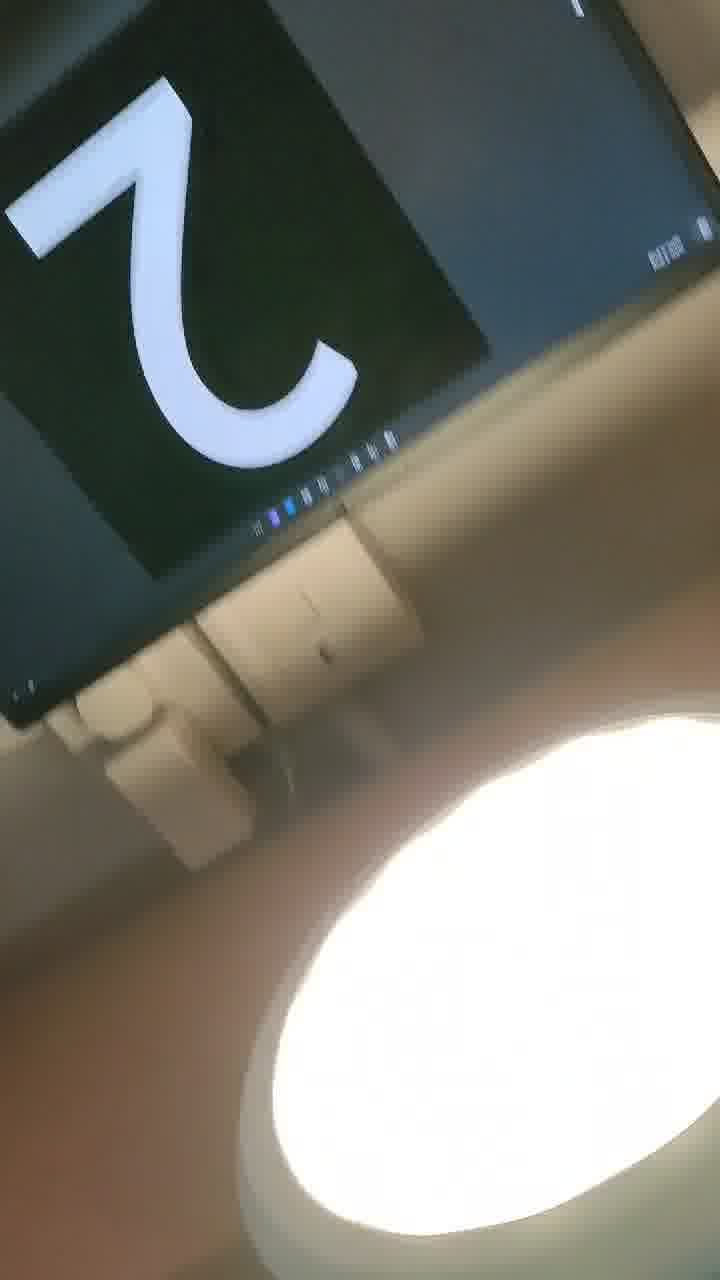two: (10, 62, 373, 489)
